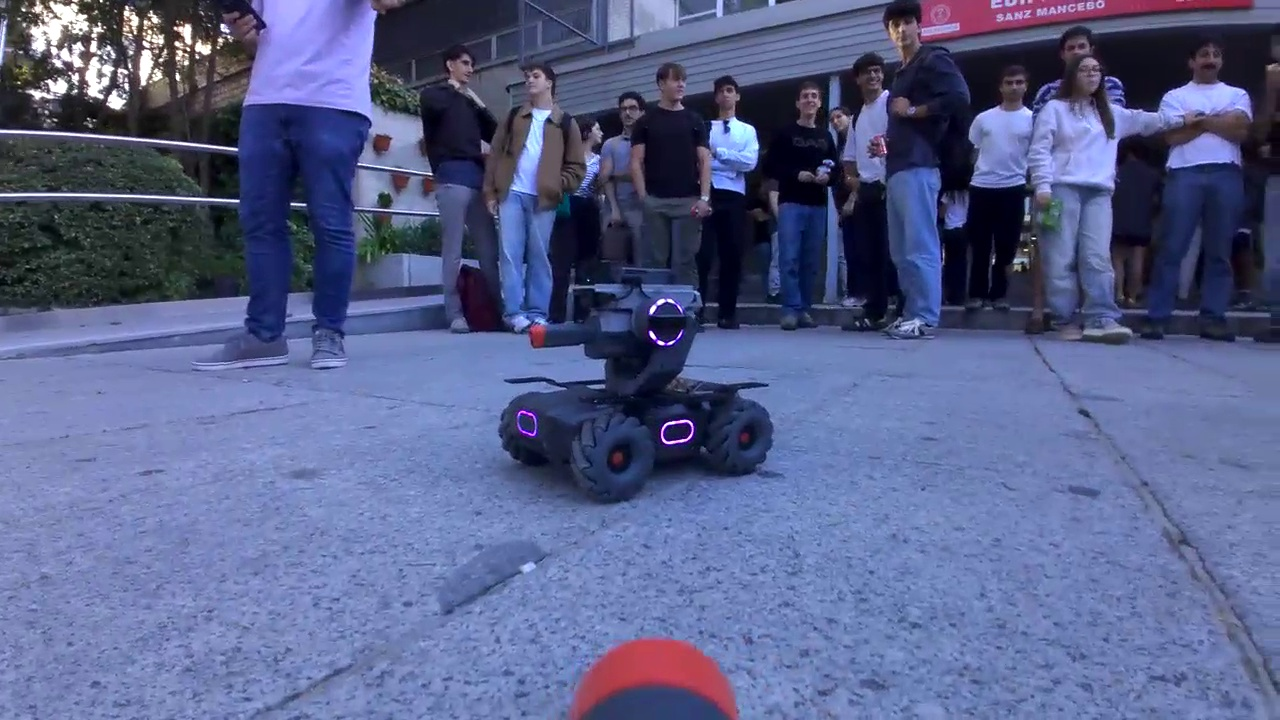robot: (487, 267, 787, 502)
